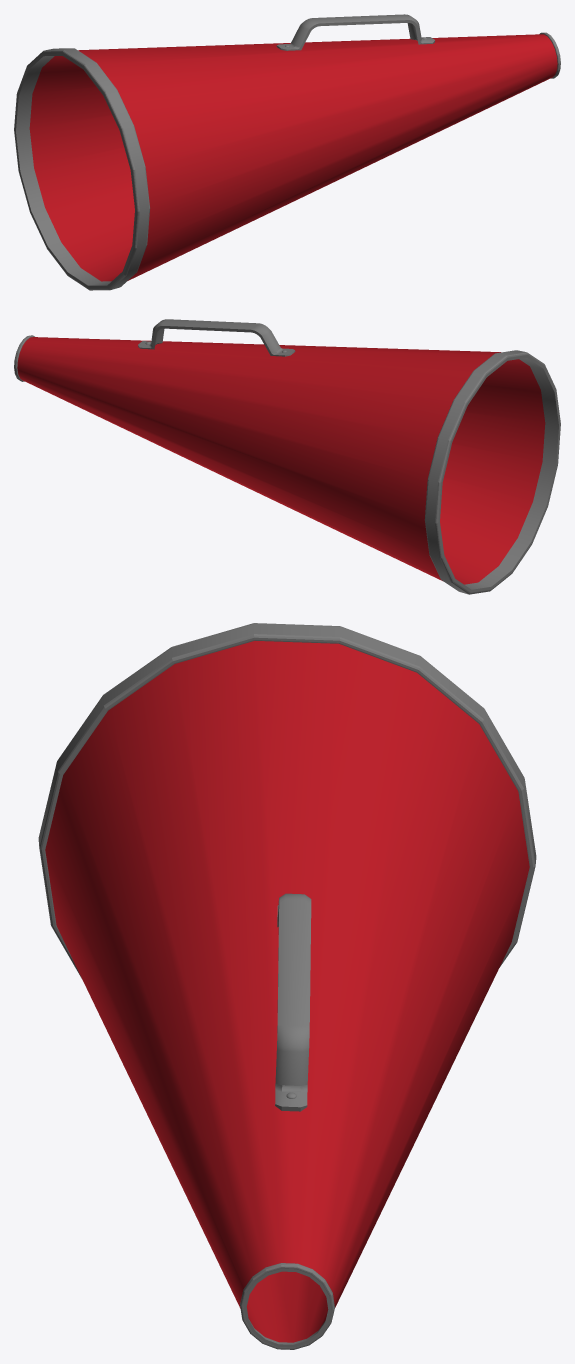
3 views of the same model, one above another, from view 1: azimuth 30°, elevation 25°; view 2: azimuth 150°, elevation 25°; view 3: azimuth 270°, elevation 25° (orthographic). The views are drawn at different scales.
Visible parts, largest first — view 1: Cylinder001, Object001, Line001; view 2: Cylinder001, Object001, Line001; view 3: Cylinder001, Object001, Line001.
Boxes of the visible parts, <box> form: Cylinder001: <box>29,34,557,281</box>; Object001: <box>14,32,560,290</box>; Line001: <box>276,14,434,50</box>; Cylinder001: <box>17,337,545,584</box>; Object001: <box>14,335,560,594</box>; Line001: <box>138,319,295,356</box>; Cylinder001: <box>45,641,529,1342</box>; Object001: <box>38,623,536,1349</box>; Line001: <box>275,893,311,1111</box>.
Size of the model in its own units: 186 by 83.87 by 84.57.
